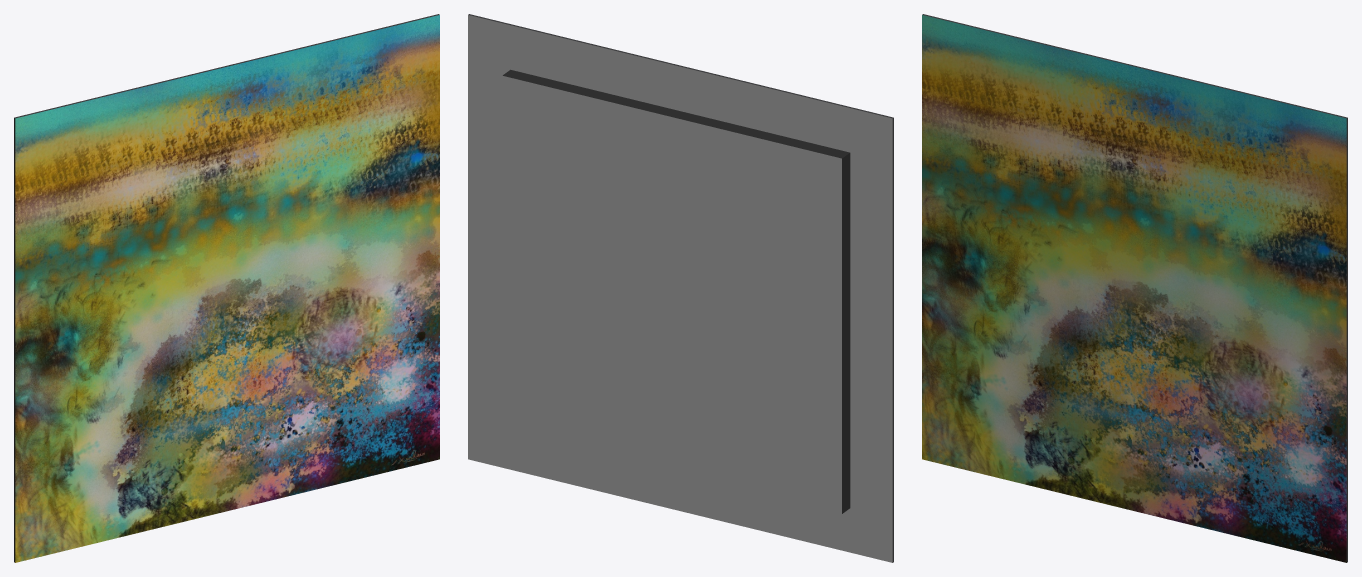
Rendered from va100_moyen_dibond.glb.
3 renders of one model, left to right at view 1: azimuth 30°, elevation 25°; view 2: azimuth 150°, elevation 25°; view 3: azimuth 330°, elevation 25°, orthographic.
Visible parts, largest first — view 1: va100_moyen_dibond; view 2: va100_moyen_dibond; view 3: va100_moyen_dibond.
Part boxes in pixels (x1,y1,x2,y2): va100_moyen_dibond: (14, 14, 439, 562); va100_moyen_dibond: (468, 14, 893, 562); va100_moyen_dibond: (922, 14, 1347, 562).
Size of the model in its own units: 0.6 by 0.6 by 0.023.
Materials: 4 (1 with a texture image).
